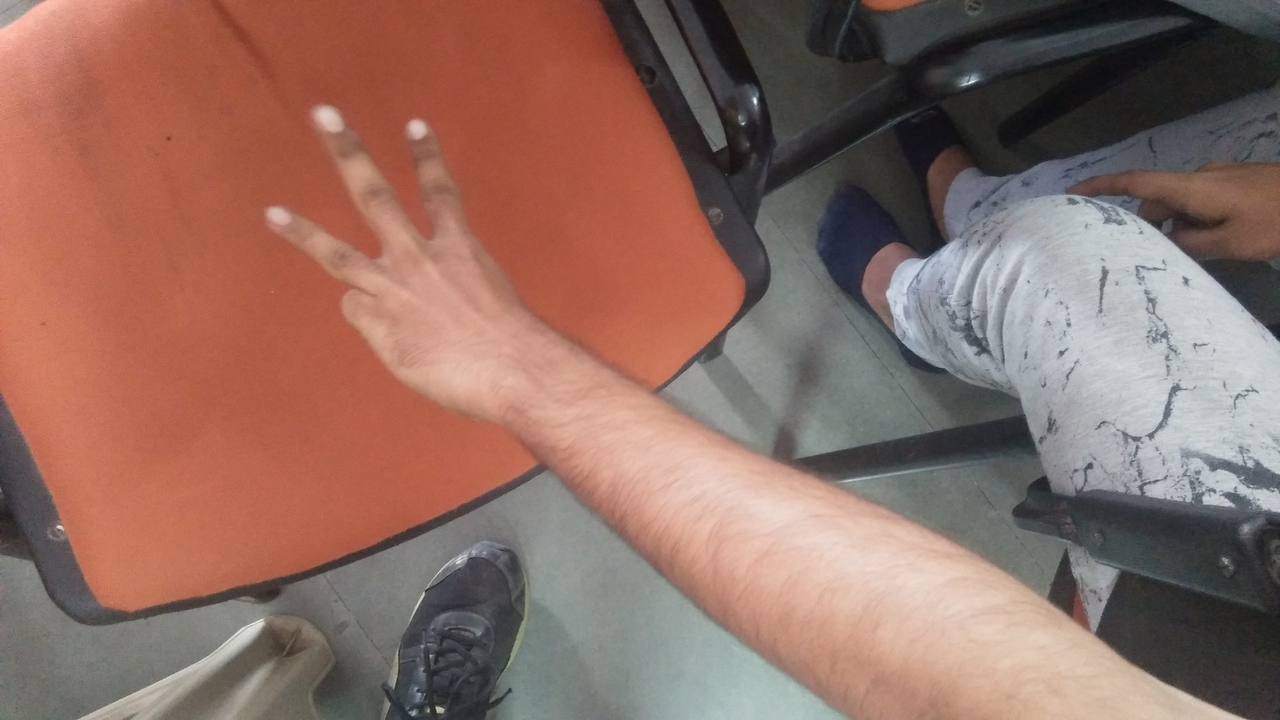fingertip: (294, 94, 360, 142), (388, 110, 446, 154), (253, 194, 310, 237)
